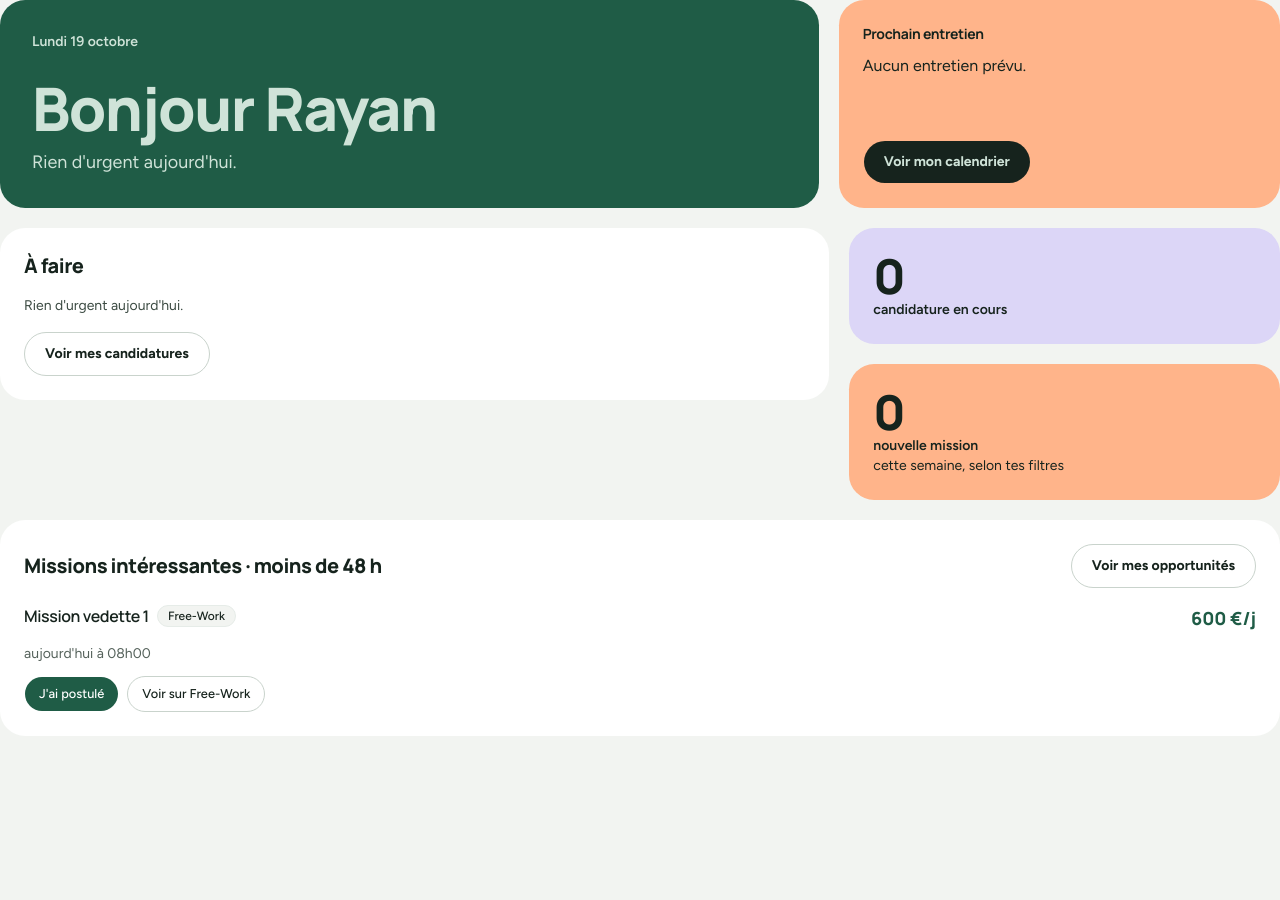
Test: HomeDashboard › shows a generic error when applying throws
The image size is (1280, 900).
Click the button "J'ai postulé": (72, 694) [24,676,119,712]
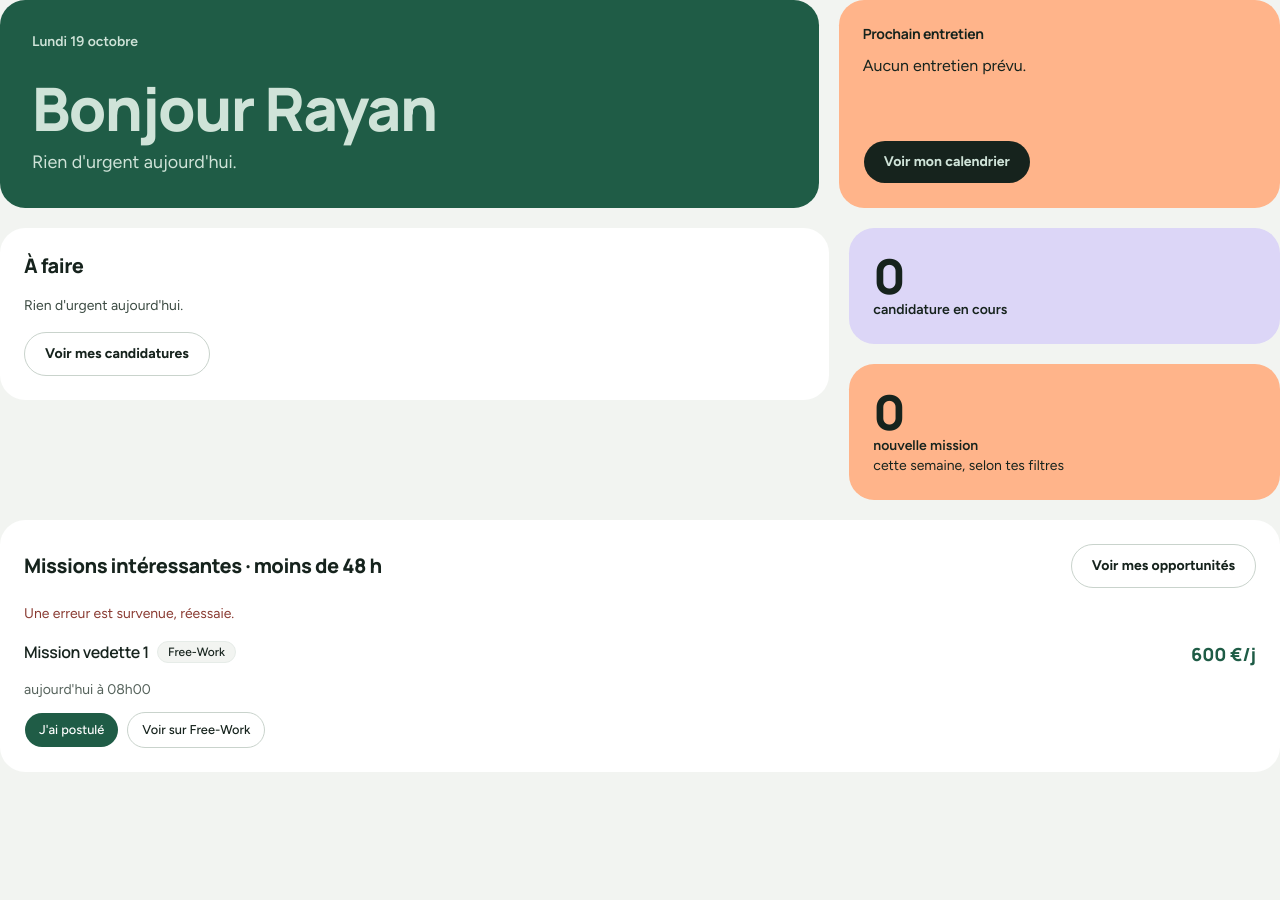
Expected: the message reads "Une erreur est survenue, réessaie.", [24,605,234,622]
